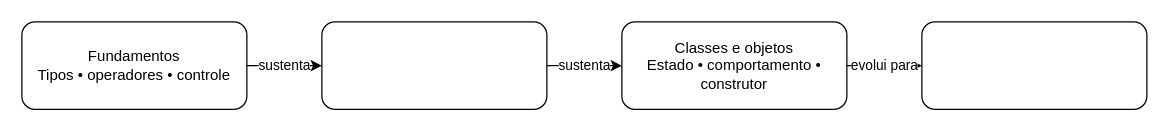
This 1169x131 diagram has some shape labels left out. Here are the shapes that lost their labels. From the top down, the centre of each, then its label:
At point 434,65: "Métodos e estruturas Métodos • String • Arrays • ArrayList".
At point 1034,65: "POO Encapsulamento • herança • polimorfismo • abstração".
